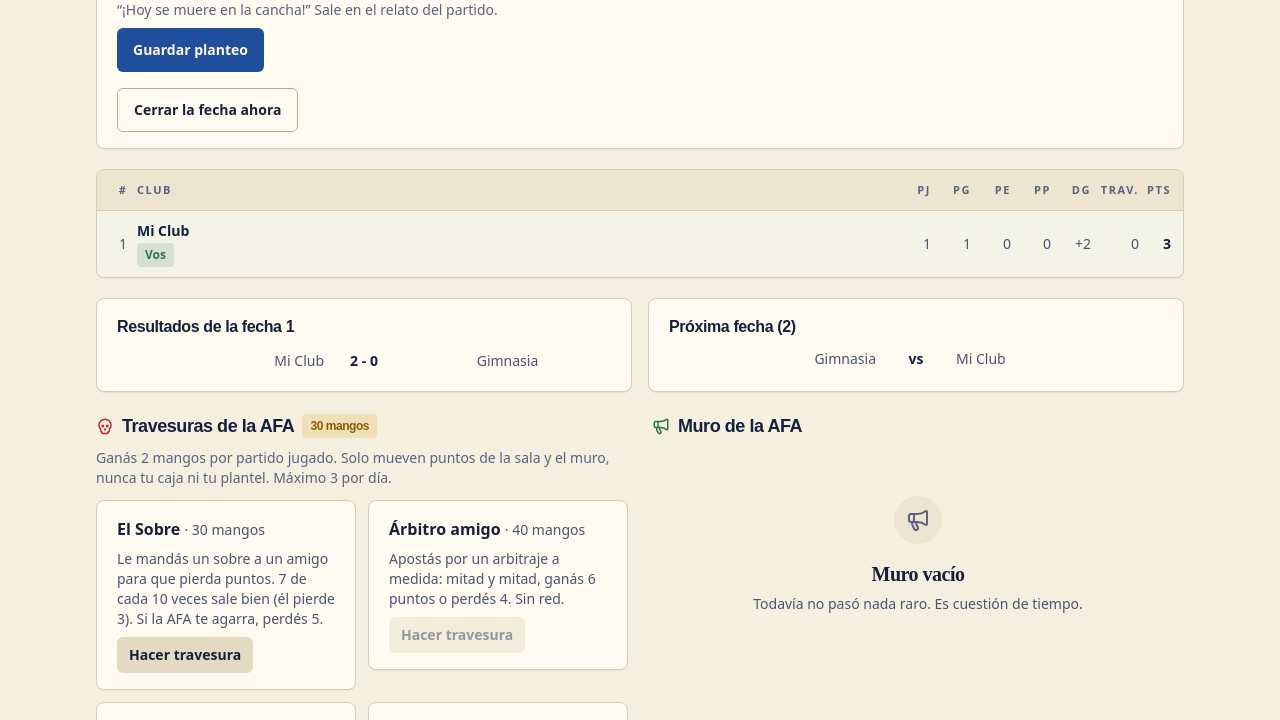
pantalla de la liga de amigos › tocar un resultado abre el relato del partido
(page scrolled)
Click the button with aria-label "ver el relato: mi club 2 - 0 gimnasia" at (364, 361), box x1=117 y1=347 x2=611 y2=375
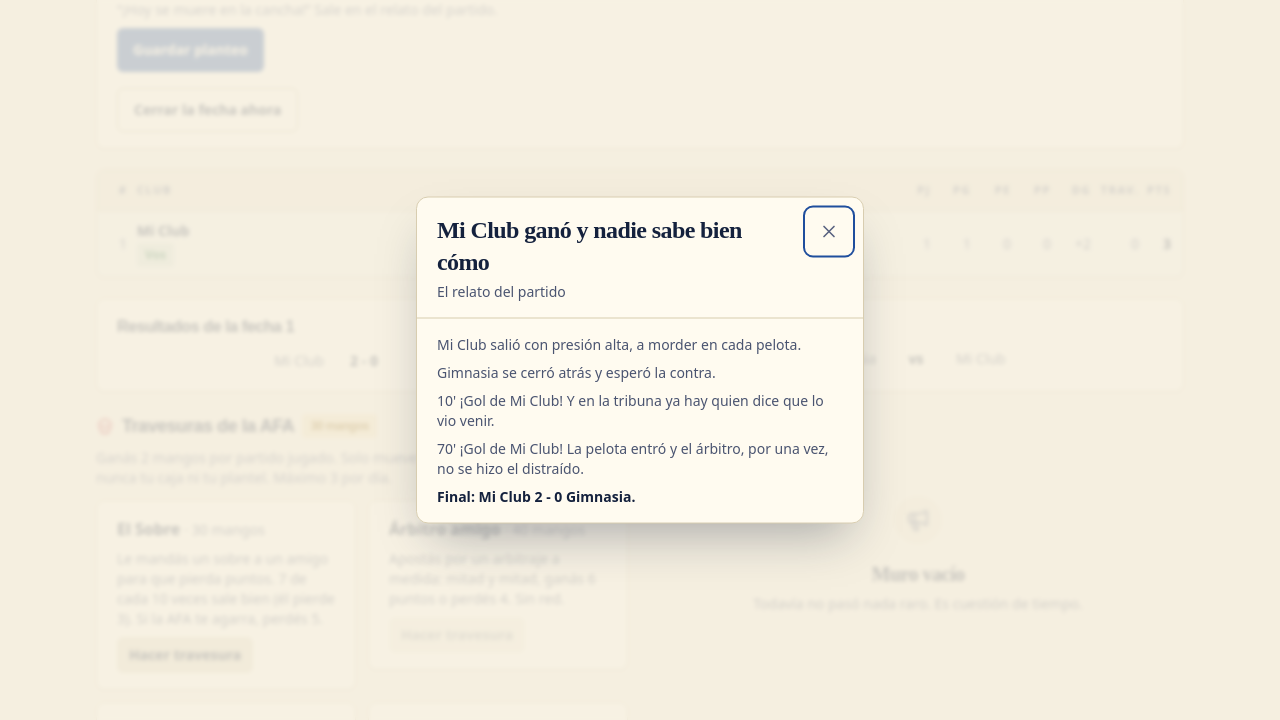
Expected: the list item "Final: Mi Club 2 - 0 Gimnasia." is shown, x1=437 y1=486 x2=635 y2=506
Expected: the list item "Mi Club salió con presión alta, a morder en cada pelota." is shown, x1=437 y1=334 x2=843 y2=354
